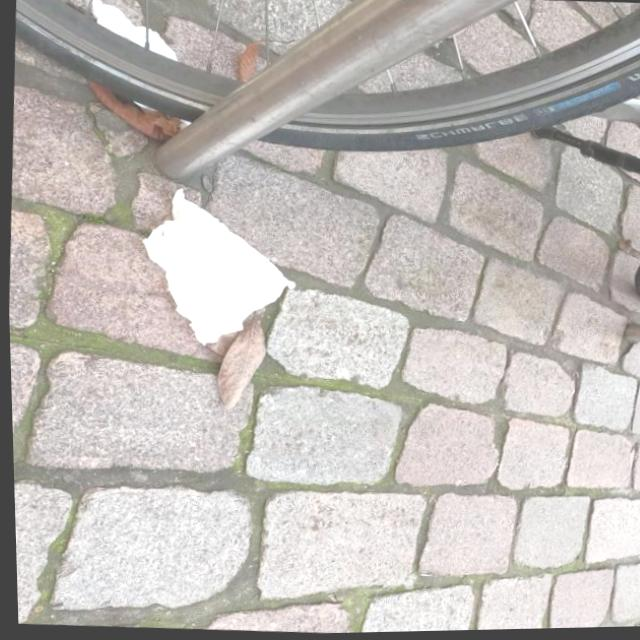Paper: (133, 183, 299, 354), (88, 0, 183, 63)
